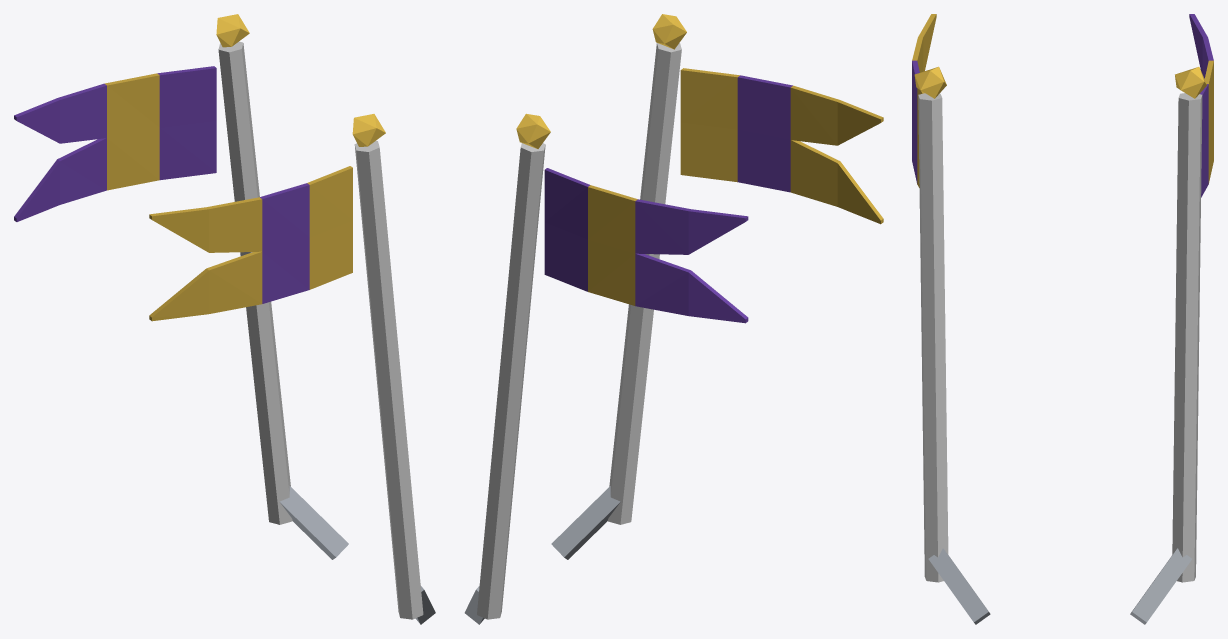
The model's file is gd_motorcycle_flags.glb.
The picture shows the model from 3 angles, left to right: view 1: azimuth 30°, elevation 25°; view 2: azimuth 150°, elevation 25°; view 3: azimuth 270°, elevation 25°; orthographic projection. The views are drawn at different scales.
Parts seen in each view (by area): view 1: base; view 2: base; view 3: base.
Boxes of the visible parts, <box> form: base: <box>14,14,435,624</box>; base: <box>464,14,883,624</box>; base: <box>912,14,1213,624</box>.
Bounding box in the file's own units: 0.2596 × 0.4422 × 0.232.
